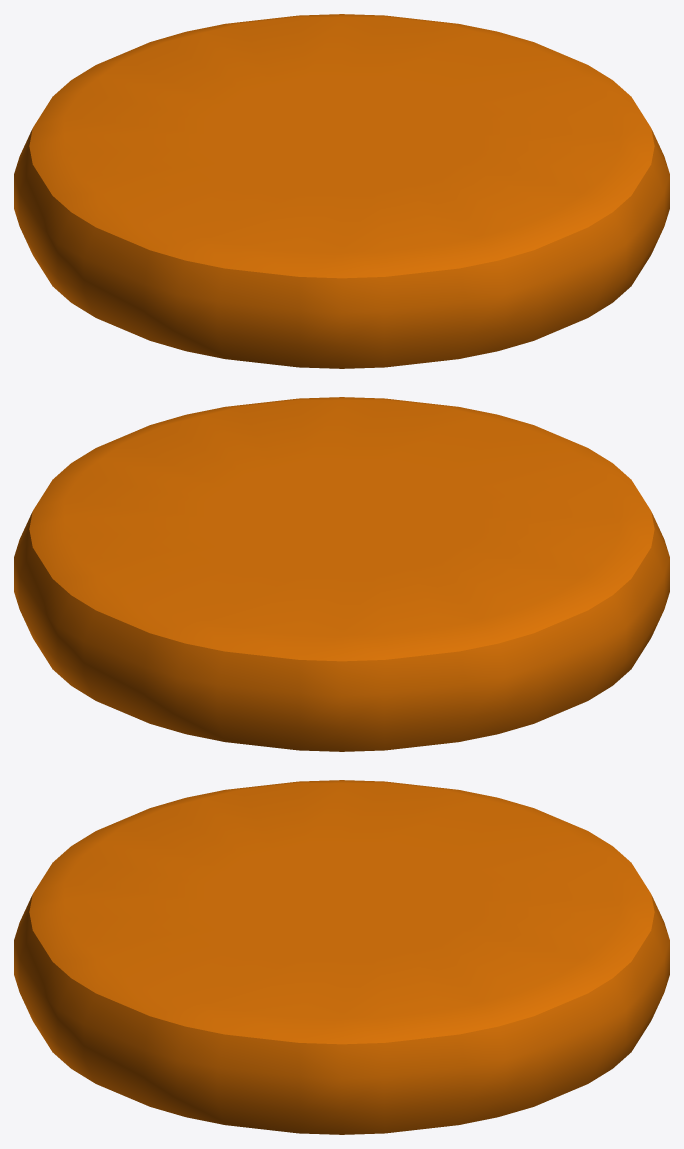
Rendered from Käse1.fbx.
3 renders of one model, top to bottom at view 1: azimuth 30°, elevation 25°; view 2: azimuth 150°, elevation 25°; view 3: azimuth 270°, elevation 25°, orthographic.
Visible parts, largest first — view 1: pCylinder1; view 2: pCylinder1; view 3: pCylinder1.
Part boxes in pixels (x1=…): pCylinder1: x1=14, y1=14, x2=669, y2=368; pCylinder1: x1=14, y1=397, x2=669, y2=751; pCylinder1: x1=14, y1=780, x2=669, y2=1134.
Size of the model in its own units: 1.97 by 0.3763 by 1.97.
